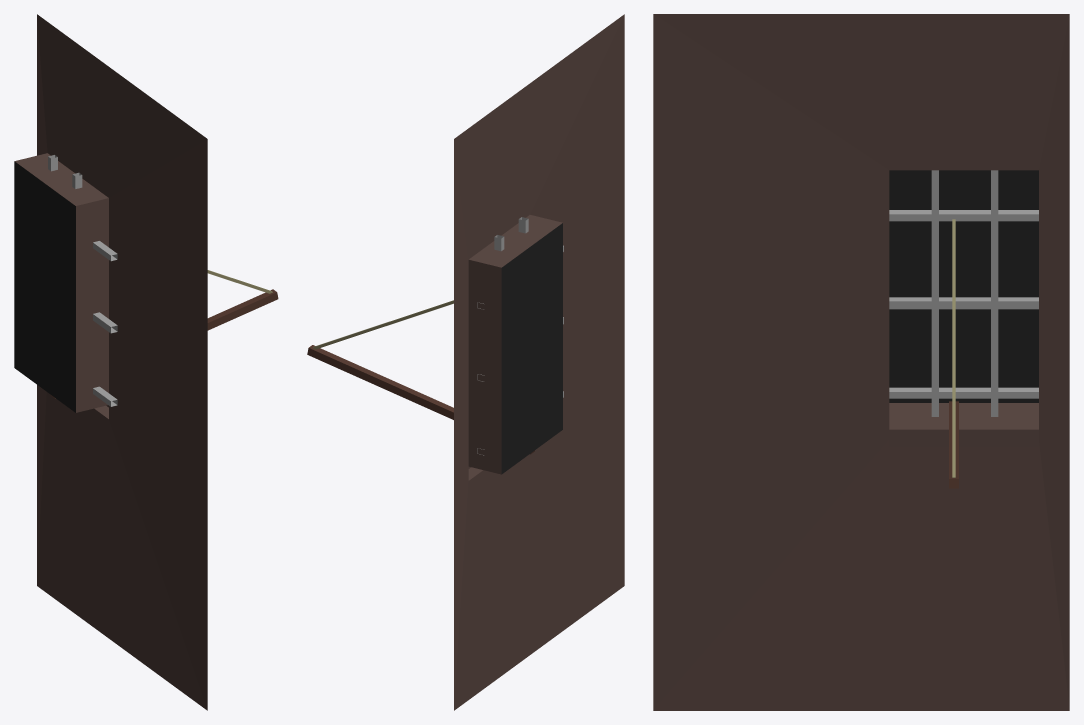
The model's file is houseWall_11.fbx.
3 renders of one model, left to right at view 1: azimuth 30°, elevation 25°; view 2: azimuth 150°, elevation 25°; view 3: azimuth 270°, elevation 25°, orthographic. The views are drawn at different scales.
Parts seen in each view (by area): view 1: houseWall_11; view 2: houseWall_11; view 3: houseWall_11.
Boxes of the visible parts, left/top/right/bottom form: houseWall_11: left=14, top=14, right=278, bottom=710; houseWall_11: left=307, top=14, right=624, bottom=710; houseWall_11: left=653, top=14, right=1069, bottom=710.
Size of the model in its own units: 200 by 480 by 260.
